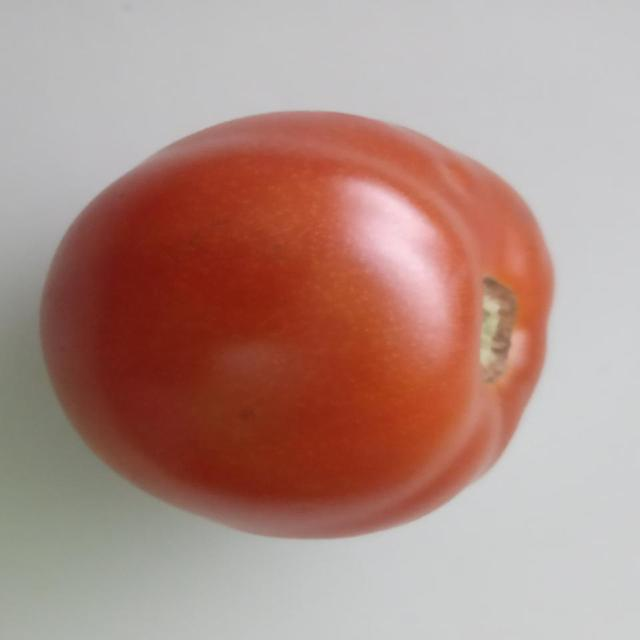Healthy Fruit: (17, 62, 377, 363)
